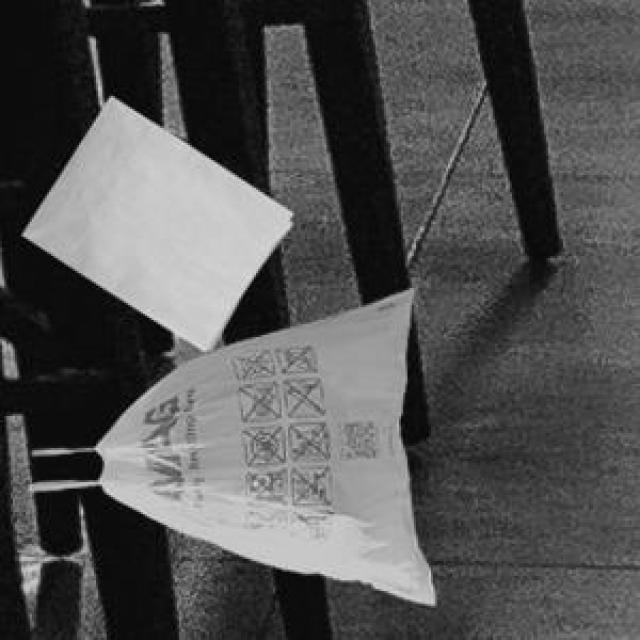paper: (19, 94, 288, 346)
